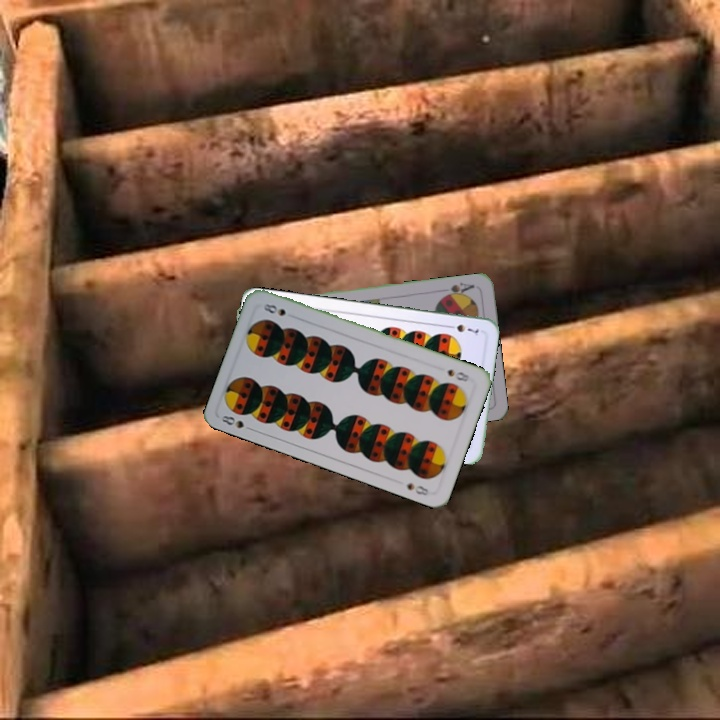S7: (443, 320, 481, 338)
S8: (218, 411, 256, 434), (443, 365, 473, 385)
SA: (438, 279, 477, 300)
